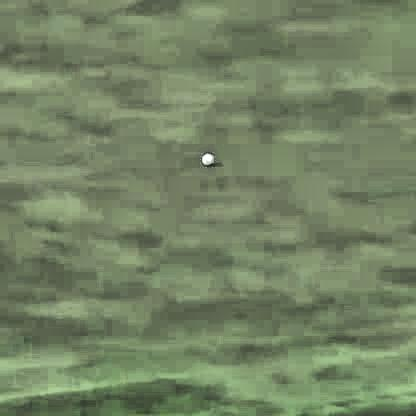golfball: (197, 151, 216, 167)
